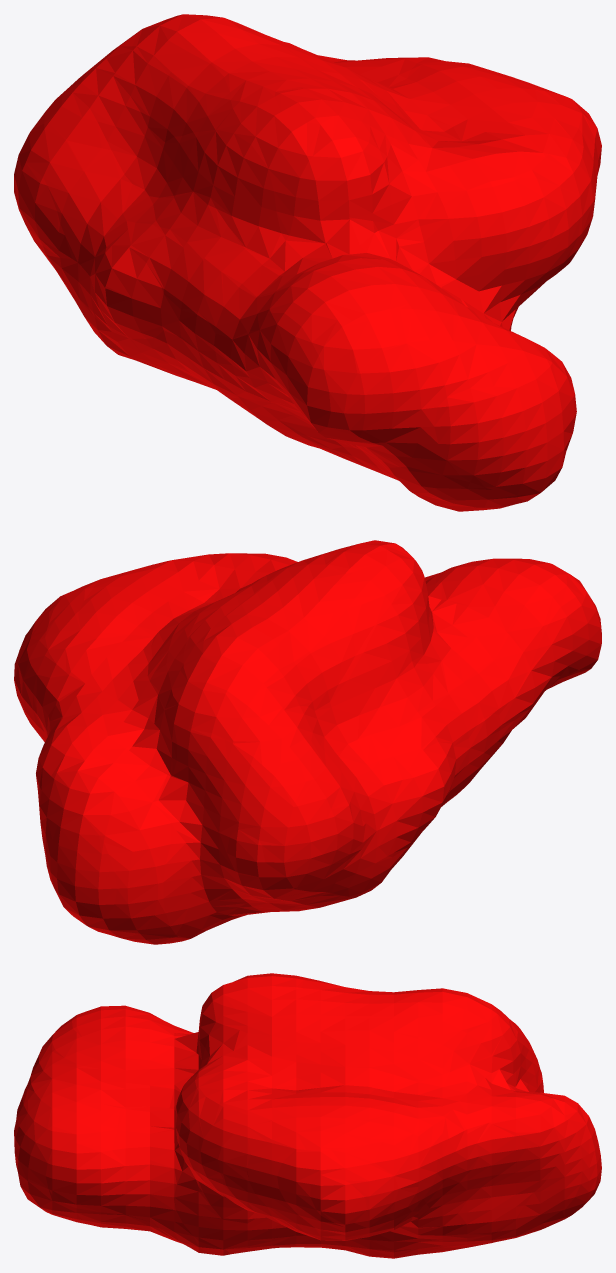
The model's file is flxA_coarse.dae.
The picture shows the model from 3 angles, top to bottom: view 1: azimuth 30°, elevation 25°; view 2: azimuth 150°, elevation 25°; view 3: azimuth 270°, elevation 25°; orthographic projection. The views are drawn at different scales.
Parts seen in each view (by area): view 1: flxA; view 2: flxA; view 3: flxA.
Part boxes in pixels (bbox=[...]): flxA: bbox=[14, 14, 601, 511]; flxA: bbox=[14, 540, 601, 944]; flxA: bbox=[14, 973, 601, 1258].
Size of the model in its own units: 38.51 by 26.64 by 57.74.
